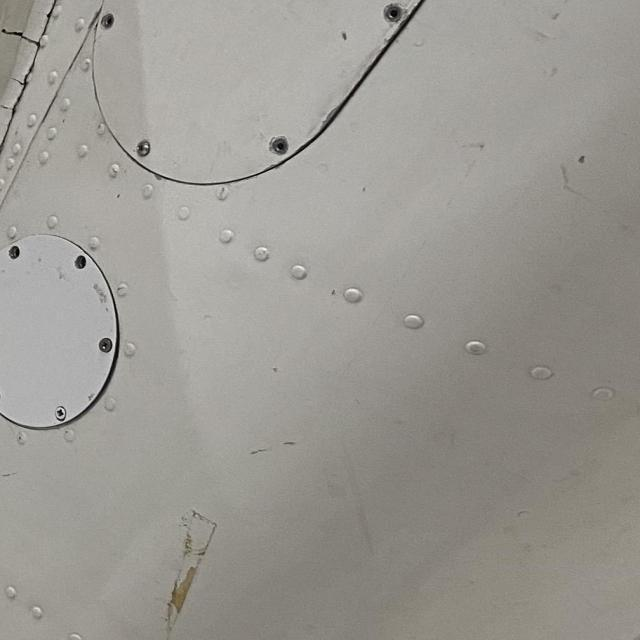Missing-head: (385, 1, 410, 22), (270, 136, 291, 155), (98, 10, 116, 29), (74, 254, 91, 270), (8, 245, 21, 259), (0, 390, 4, 404)
